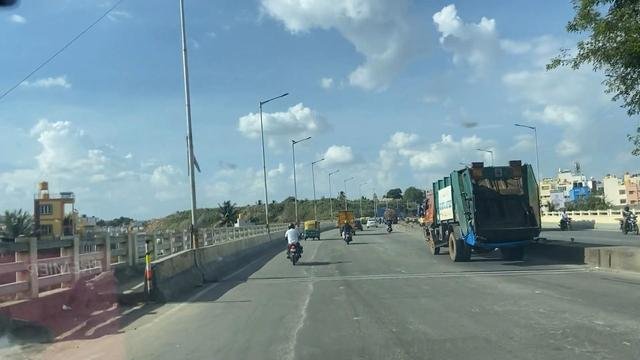HMV: (418, 157, 537, 269)
